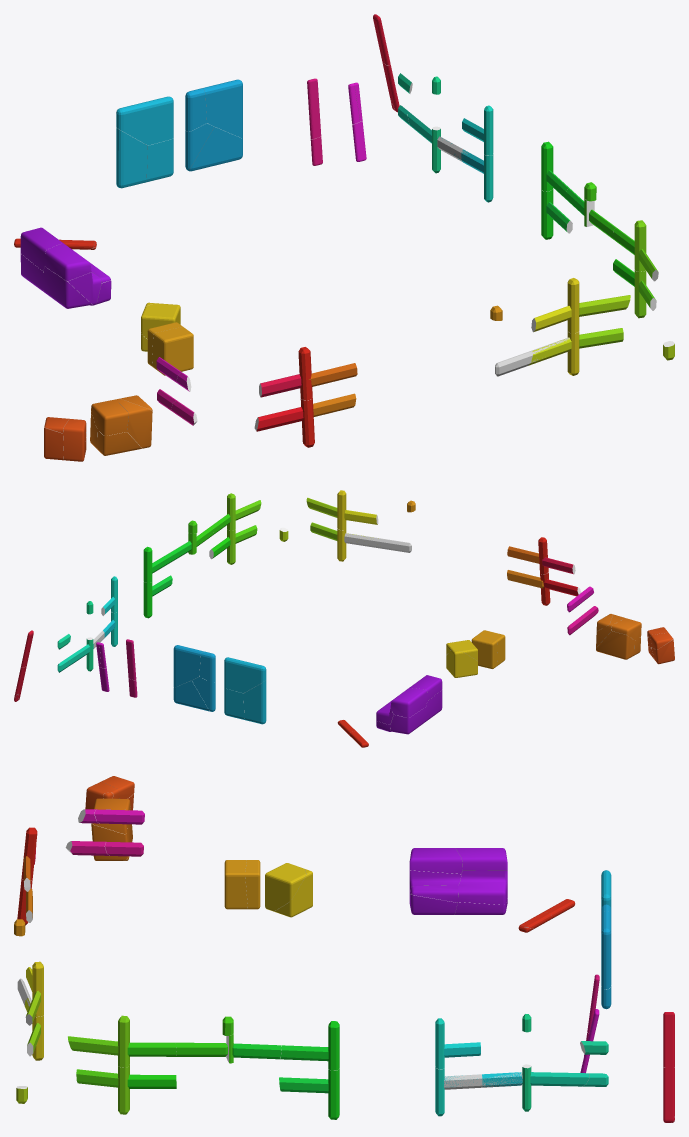
The model's file is Structure_Tower_Knight_Human_02_Destroyed_debris_cells_wood_props.fbx.
3 renders of one model, top to bottom at view 1: azimuth 30°, elevation 25°; view 2: azimuth 150°, elevation 25°; view 3: azimuth 270°, elevation 25°, orthographic. The views are drawn at different scales.
Parts seen in each view (by area): view 1: Structure_Tower_Knight_Human_02_cell.047, Structure_Tower_Knight_Human_02_cell.058, Structure_Tower_Knight_Human_02_cell.054, Structure_Tower_Knight_Human_02_cell.036, Structure_Tower_Knight_Human_02_cell.056, Structure_Tower_Knight_Human_02_cell.062, Structure_Tower_Knight_Human_02_cell.081, Structure_Tower_Knight_Human_02_cell.013, Structure_Tower_Knight_Human_02_cell.037, Structure_Tower_Knight_Human_02_cell.027, Structure_Tower_Knight_Human_02_cell.043, Structure_Tower_Knight_Human_02_cell.020 (+10 smaller); view 2: Structure_Tower_Knight_Human_02_cell.047, Structure_Tower_Knight_Human_02_cell.058, Structure_Tower_Knight_Human_02_cell.054, Structure_Tower_Knight_Human_02_cell.027, Structure_Tower_Knight_Human_02_cell.044, Structure_Tower_Knight_Human_02_cell.006, Structure_Tower_Knight_Human_02_cell.046, Structure_Tower_Knight_Human_02_cell.062, Structure_Tower_Knight_Human_02_cell.034, Structure_Tower_Knight_Human_02_cell.056, Structure_Tower_Knight_Human_02_cell.041, Structure_Tower_Knight_Human_02_cell.049 (+5 smaller); view 3: Structure_Tower_Knight_Human_02_cell.005, Structure_Tower_Knight_Human_02_cell.052, Structure_Tower_Knight_Human_02_cell.013, Structure_Tower_Knight_Human_02_cell.036, Structure_Tower_Knight_Human_02_cell.027, Structure_Tower_Knight_Human_02_cell.028, Structure_Tower_Knight_Human_02_cell.058, Structure_Tower_Knight_Human_02_cell.046, Structure_Tower_Knight_Human_02_cell.022, Structure_Tower_Knight_Human_02_cell.057, Structure_Tower_Knight_Human_02_cell.063, Structure_Tower_Knight_Human_02_cell.035 (+23 smaller).
Part boxes in pixels (<box>): Structure_Tower_Knight_Human_02_cell.047: <box>116,96,173,145</box>; Structure_Tower_Knight_Human_02_cell.058: <box>202,79,242,138</box>; Structure_Tower_Knight_Human_02_cell.054: <box>116,128,147,188</box>; Structure_Tower_Knight_Human_02_cell.036: <box>152,327,193,375</box>; Structure_Tower_Knight_Human_02_cell.056: <box>188,126,242,171</box>; Structure_Tower_Knight_Human_02_cell.062: <box>531,295,630,332</box>; Structure_Tower_Knight_Human_02_cell.081: <box>528,328,623,365</box>; Structure_Tower_Knight_Human_02_cell.013: <box>45,243,91,280</box>; Structure_Tower_Knight_Human_02_cell.037: <box>91,399,128,435</box>; Structure_Tower_Knight_Human_02_cell.027: <box>20,227,62,270</box>; Structure_Tower_Knight_Human_02_cell.043: <box>43,266,92,308</box>; Structure_Tower_Knight_Human_02_cell.020: <box>115,398,152,448</box>; Structure_Tower_Knight_Human_02_cell.047: <box>224,657,266,693</box>; Structure_Tower_Knight_Human_02_cell.058: <box>173,645,202,687</box>; Structure_Tower_Knight_Human_02_cell.054: <box>243,680,266,724</box>; Structure_Tower_Knight_Human_02_cell.027: <box>390,688,427,717</box>; Structure_Tower_Knight_Human_02_cell.044: <box>596,631,634,659</box>; Structure_Tower_Knight_Human_02_cell.006: <box>344,533,411,552</box>; Structure_Tower_Knight_Human_02_cell.046: <box>446,650,477,677</box>; Structure_Tower_Knight_Human_02_cell.062: <box>306,497,378,524</box>; Structure_Tower_Knight_Human_02_cell.034: <box>471,635,497,668</box>; Structure_Tower_Knight_Human_02_cell.056: <box>173,680,211,711</box>; Structure_Tower_Knight_Human_02_cell.041: <box>390,707,425,734</box>; Structure_Tower_Knight_Human_02_cell.049: <box>224,688,244,719</box>; Structure_Tower_Knight_Human_02_cell.005: <box>458,870,507,904</box>; Structure_Tower_Knight_Human_02_cell.052: <box>265,863,305,911</box>; Structure_Tower_Knight_Human_02_cell.013: <box>409,848,462,873</box>; Structure_Tower_Knight_Human_02_cell.036: <box>224,860,247,909</box>; Structure_Tower_Knight_Human_02_cell.027: <box>455,848,507,870</box>; Structure_Tower_Knight_Human_02_cell.028: <box>444,1072,522,1089</box>; Structure_Tower_Knight_Human_02_cell.058: <box>601,911,611,989</box>; Structure_Tower_Knight_Human_02_cell.046: <box>273,869,312,917</box>; Structure_Tower_Knight_Human_02_cell.022: <box>530,1072,589,1086</box>; Structure_Tower_Knight_Human_02_cell.057: <box>410,890,457,914</box>; Structure_Tower_Knight_Human_02_cell.063: <box>409,870,461,903</box>; Structure_Tower_Knight_Human_02_cell.035: <box>176,1042,227,1056</box>.
Size of the model in its own units: 745 by 116 by 670.
